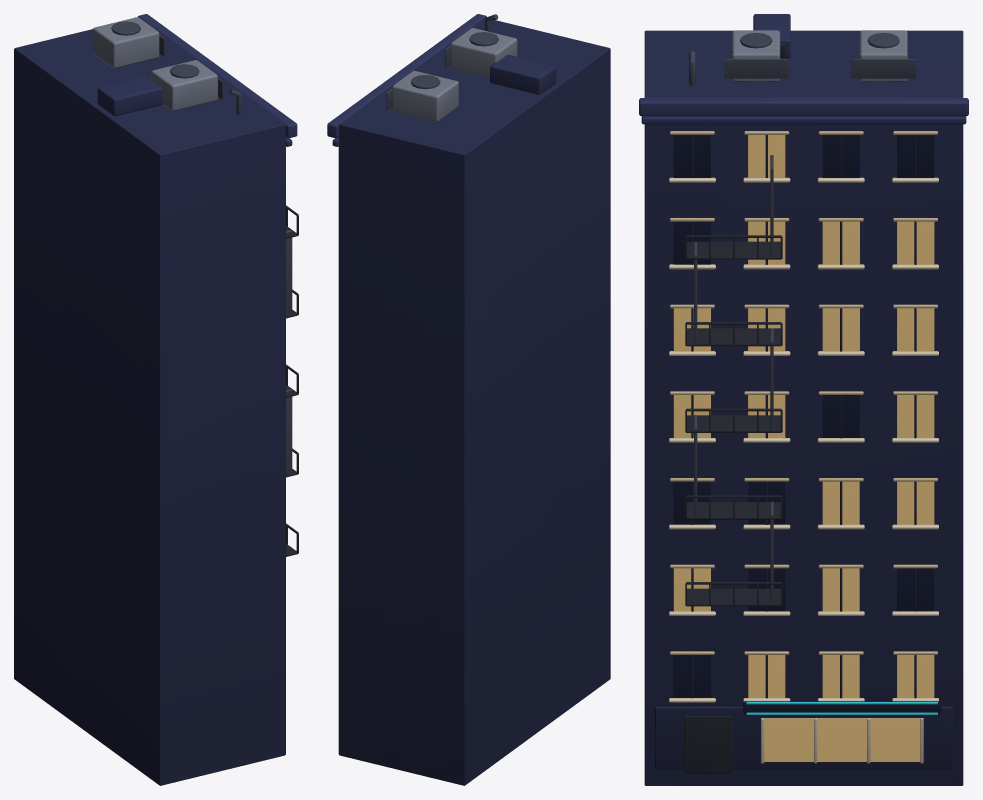
File: SM_Studio_StreetBlock_E.fbx
The picture shows the model from 3 angles, left to right: view 1: azimuth 30°, elevation 25°; view 2: azimuth 150°, elevation 25°; view 3: azimuth 270°, elevation 25°; orthographic projection. The views are drawn at different scales.
Parts seen in each view (by area): view 1: SM_Studio_StreetBlock_E; view 2: SM_Studio_StreetBlock_E; view 3: SM_Studio_StreetBlock_E.
Part boxes in pixels (box(x1,y1,x2,y2)): SM_Studio_StreetBlock_E: box(14, 14, 298, 785); SM_Studio_StreetBlock_E: box(327, 14, 610, 785); SM_Studio_StreetBlock_E: box(639, 14, 968, 785).
Size of the model in its own units: 374 by 1495 by 620.
